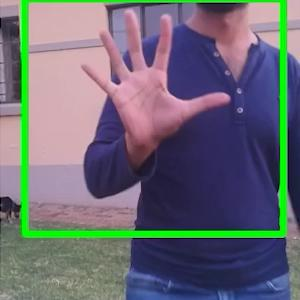follow_hand: (76, 5, 232, 155)
